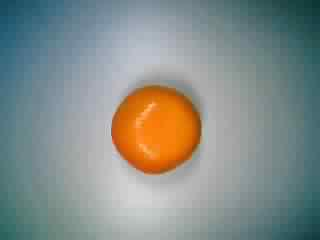orange: (110, 80, 205, 182)
